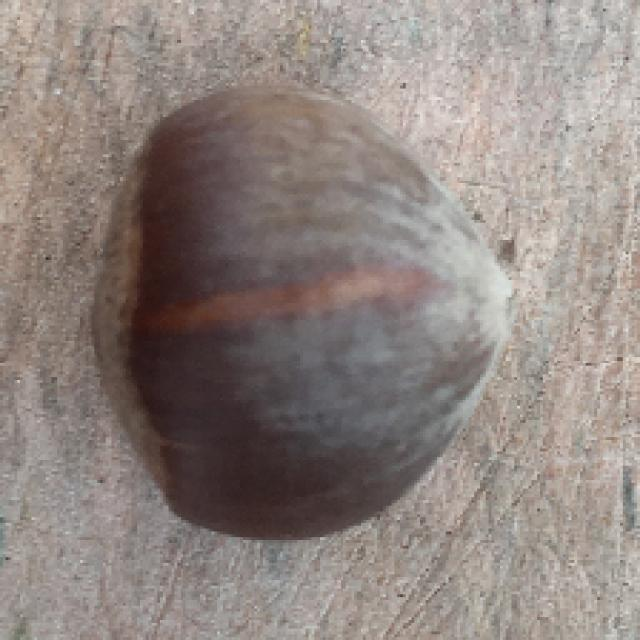damagedHazelnut: (83, 71, 523, 557)
